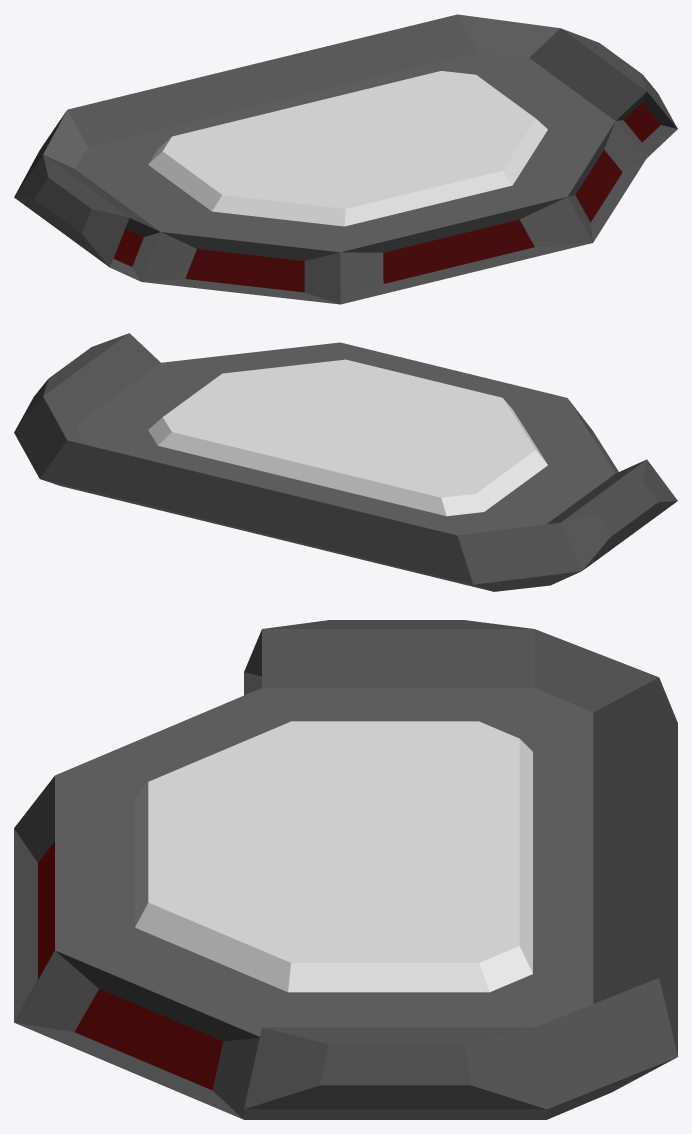
Rendered from boss3.glb.
The picture shows the model from 3 angles, top to bottom: view 1: azimuth 30°, elevation 25°; view 2: azimuth 150°, elevation 25°; view 3: azimuth 270°, elevation 25°; orthographic projection. The views are drawn at different scales.
Visible parts, largest first — view 1: base, glass; view 2: base, glass; view 3: base, glass.
Boxes of the visible parts, box(x1,y1,x2,y2) form: base: box(14, 14, 677, 304); glass: box(148, 71, 547, 226); base: box(14, 333, 677, 591); glass: box(148, 359, 547, 516); base: box(14, 620, 677, 1119); glass: box(135, 721, 532, 992).
Bounding box in the file's own units: 3.42 × 0.3522 × 2.17.
